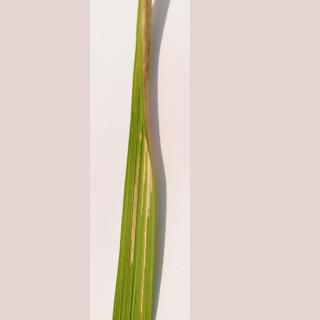Hawar-Daun: (122, 14, 168, 320)
